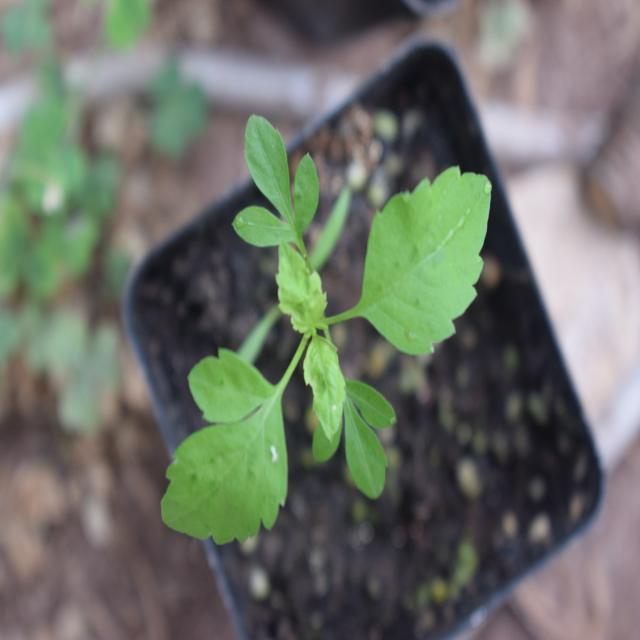Bidens pilosa: (137, 130, 508, 537)
